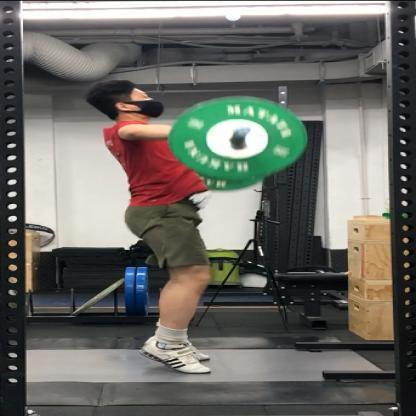barbell: (170, 97, 307, 189)
